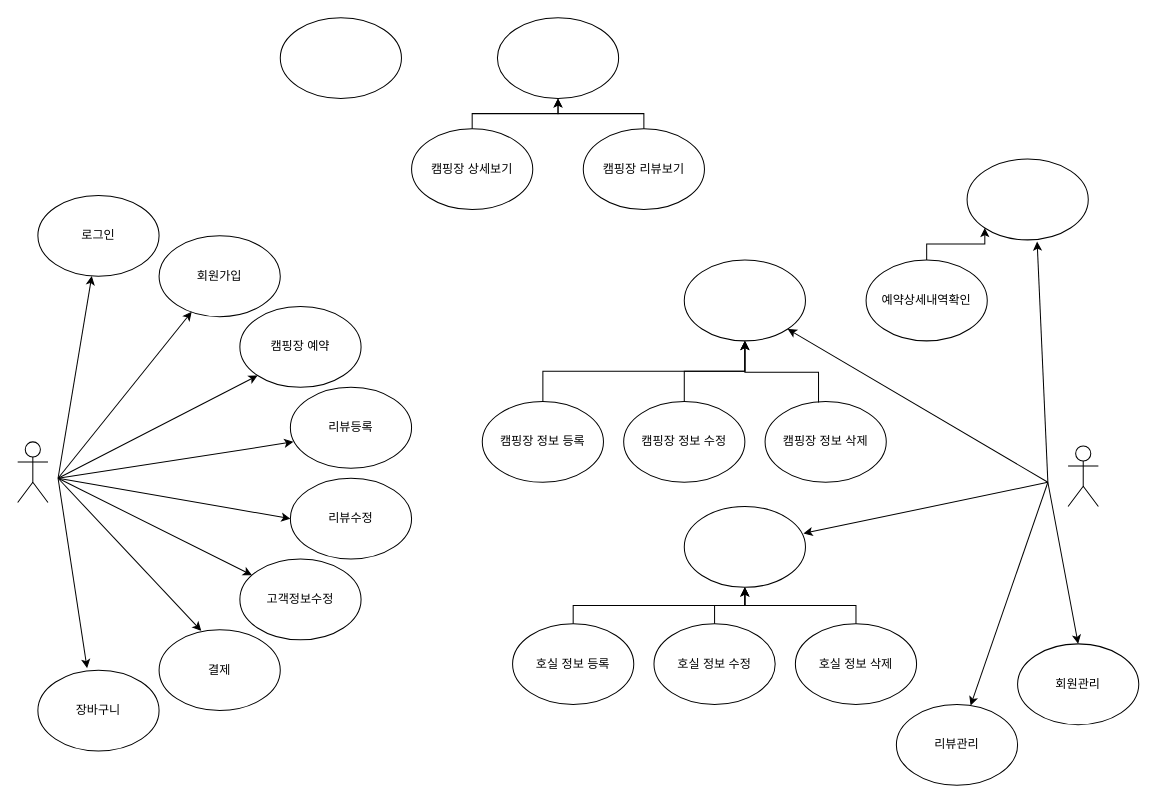
Some shapes in this 1156 by 803 pixel diagram are drawn without their labels. Here are the shapes that lost their labels. From the top down, the centre of each, then its label:
At pixel 340 57: "캠핑장 검색".
At pixel 557 57: "캠핑장 리스트".
At pixel 1027 199: "예약리스트".
At pixel 744 300: "캠핑장 정보관리".
At pixel 32 471: "회원".
At pixel 1082 476: "관리자".
At pixel 744 546: "호실 정보관리".
